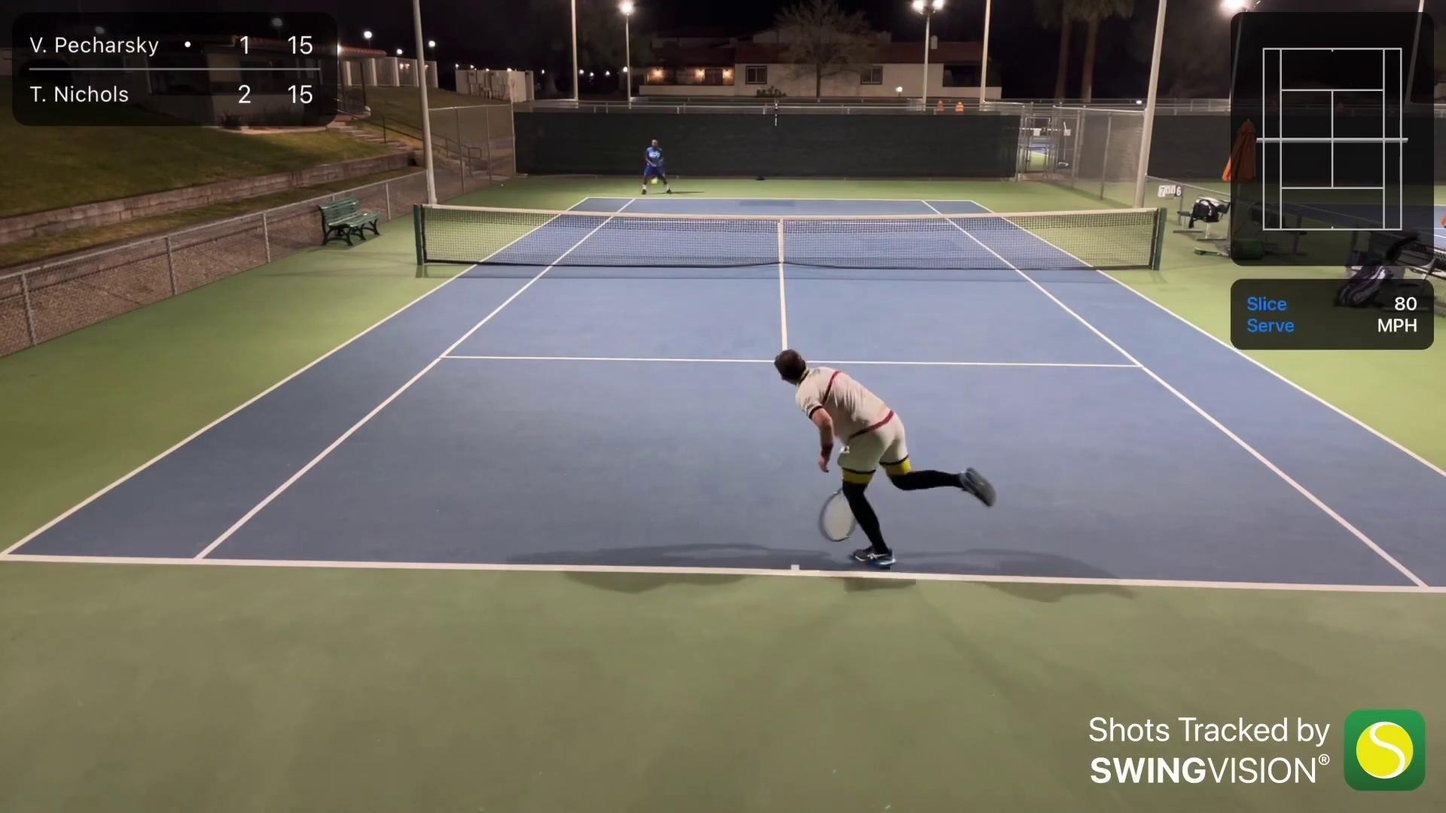ball: (647, 176, 658, 187), (498, 184, 505, 189)
